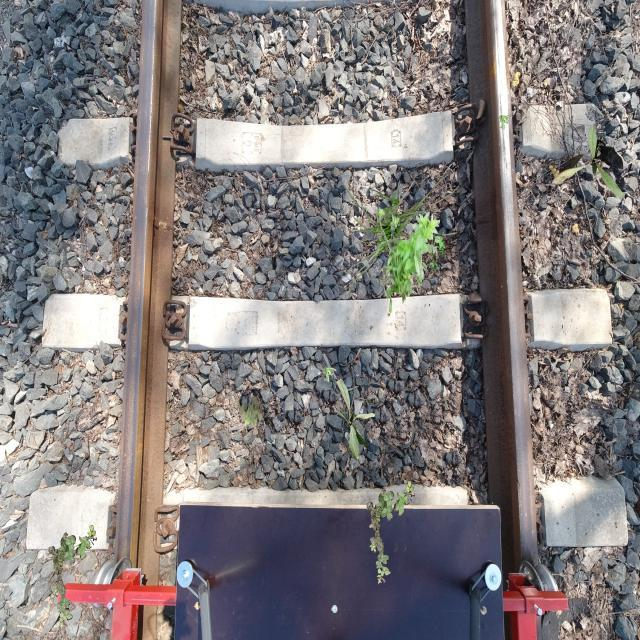Plant: (341, 162, 459, 284), (376, 206, 441, 314), (552, 124, 624, 198), (367, 481, 416, 584), (49, 525, 98, 628), (336, 378, 376, 460), (409, 227, 446, 282), (237, 397, 263, 429), (498, 115, 512, 130), (323, 367, 337, 382)
